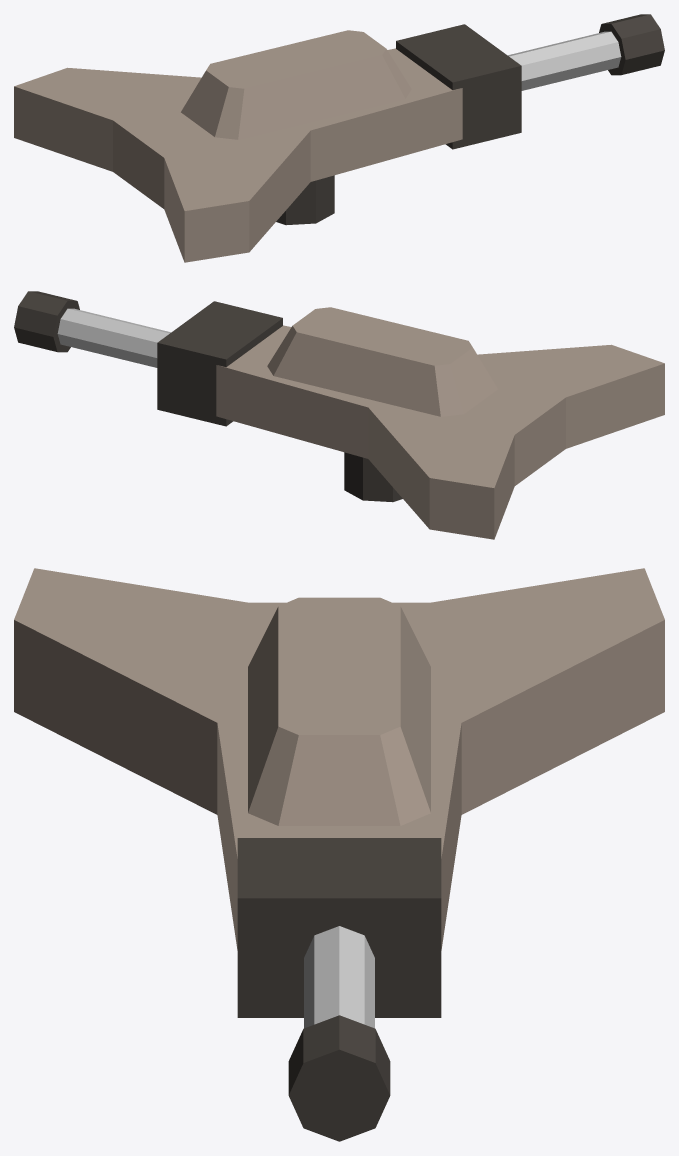
File: mech_turret_gun_chargeblaster.obj
3 views of the same model, one above another, from view 1: azimuth 30°, elevation 25°; view 2: azimuth 150°, elevation 25°; view 3: azimuth 270°, elevation 25° (orthographic). The views are drawn at different scales.
Parts seen in each view (by area): view 1: mech_turret_gun_chargeblaster_0, mech_turret_gun_chargeblaster_1, mech_turret_gun_chargeblaster_2, mech_turret_gun_chargeblaster_3, mech_turret_gun_chargeblaster_4, mech_turret_gun_chargeblaster_5; view 2: mech_turret_gun_chargeblaster_0, mech_turret_gun_chargeblaster_1, mech_turret_gun_chargeblaster_2, mech_turret_gun_chargeblaster_3, mech_turret_gun_chargeblaster_4, mech_turret_gun_chargeblaster_5; view 3: mech_turret_gun_chargeblaster_0, mech_turret_gun_chargeblaster_1, mech_turret_gun_chargeblaster_2, mech_turret_gun_chargeblaster_4, mech_turret_gun_chargeblaster_3.
Part boxes in pixels (x1,y1,x2,y2): mech_turret_gun_chargeblaster_0: (14, 48, 462, 262); mech_turret_gun_chargeblaster_1: (181, 30, 411, 139); mech_turret_gun_chargeblaster_2: (396, 24, 521, 149); mech_turret_gun_chargeblaster_3: (508, 31, 621, 90); mech_turret_gun_chargeblaster_4: (599, 14, 664, 75); mech_turret_gun_chargeblaster_5: (276, 175, 334, 225); mech_turret_gun_chargeblaster_0: (216, 325, 664, 539); mech_turret_gun_chargeblaster_1: (267, 307, 497, 416); mech_turret_gun_chargeblaster_2: (157, 301, 282, 426); mech_turret_gun_chargeblaster_3: (57, 308, 170, 367); mech_turret_gun_chargeblaster_4: (14, 291, 79, 352); mech_turret_gun_chargeblaster_5: (344, 452, 402, 502); mech_turret_gun_chargeblaster_0: (14, 568, 664, 950); mech_turret_gun_chargeblaster_1: (248, 597, 430, 825); mech_turret_gun_chargeblaster_2: (237, 838, 441, 1017); mech_turret_gun_chargeblaster_4: (288, 1015, 390, 1141); mech_turret_gun_chargeblaster_3: (304, 926, 374, 1028).
Size of the model in its own units: 1.12 by 0.29 by 0.64.
